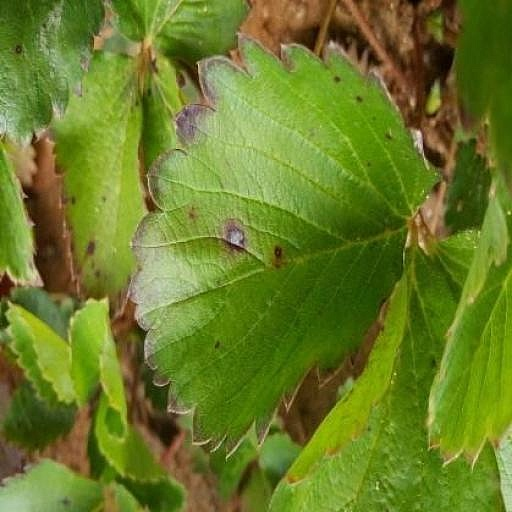Leaf Spot: (126, 51, 448, 480), (268, 0, 507, 277), (46, 184, 148, 464), (0, 361, 106, 511), (137, 331, 211, 466), (0, 224, 45, 370)
